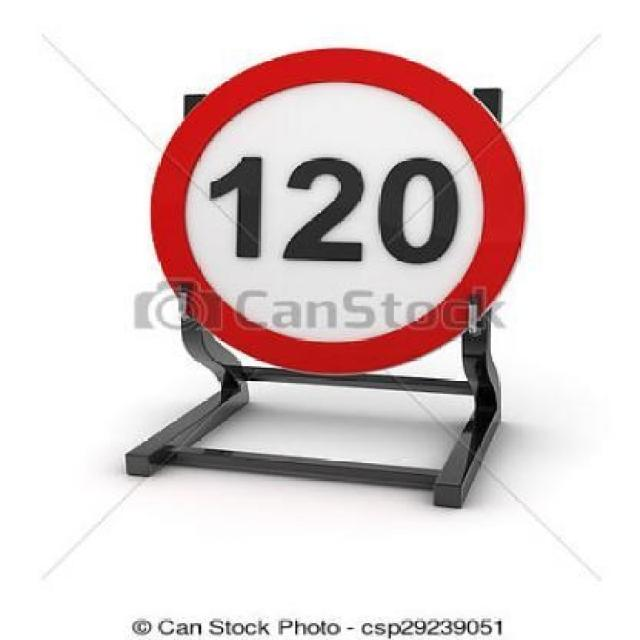forb_speed_over_120: (156, 52, 522, 365)
